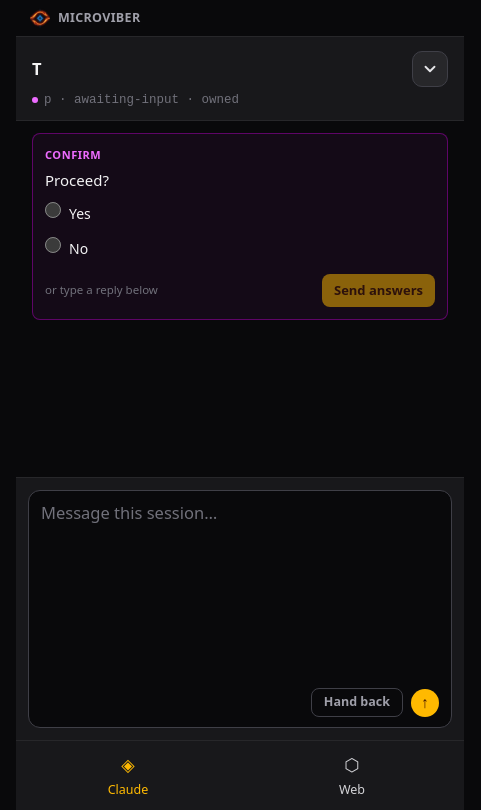
Test: App — answering a pending AskUserQuestion (spec §7) › an INVALID_INPUT rejection shows the daemon message with no Retry (not a generic failure)
Click the radio button labelled "No".
click(53, 245)  # box [45,237,61,253]
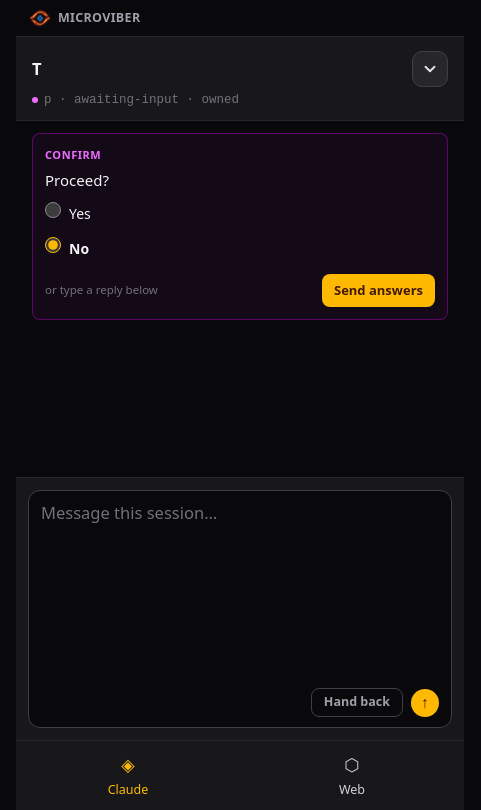
Click the button "Send answers".
click(378, 290)  # box [322,274,435,307]
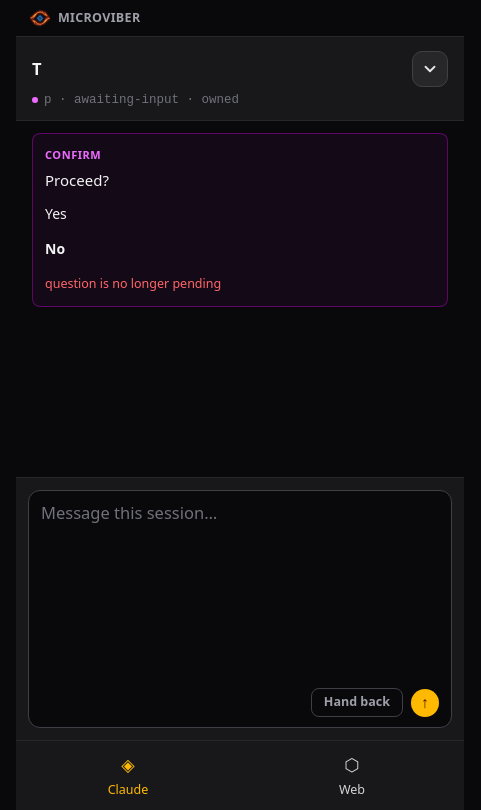
Now the text "question is no longer pending" is shown, box [45,275,221,292]
